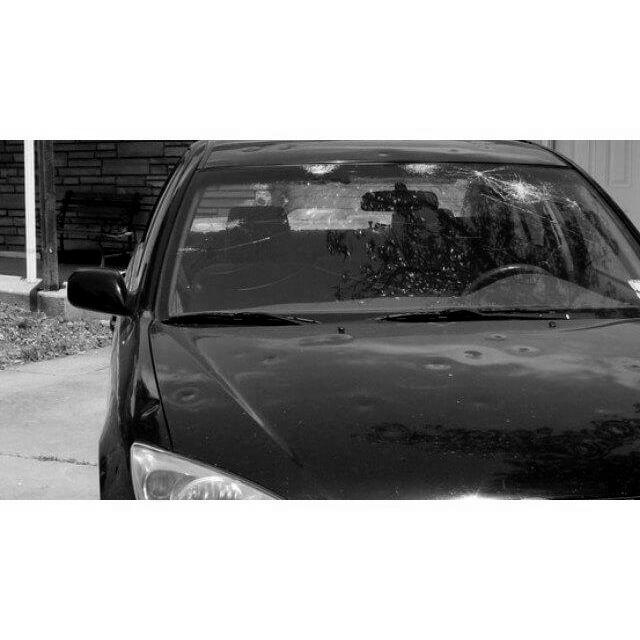Front-windscreen-damage: (156, 154, 624, 328)
bonnet-dent: (151, 327, 639, 459)
